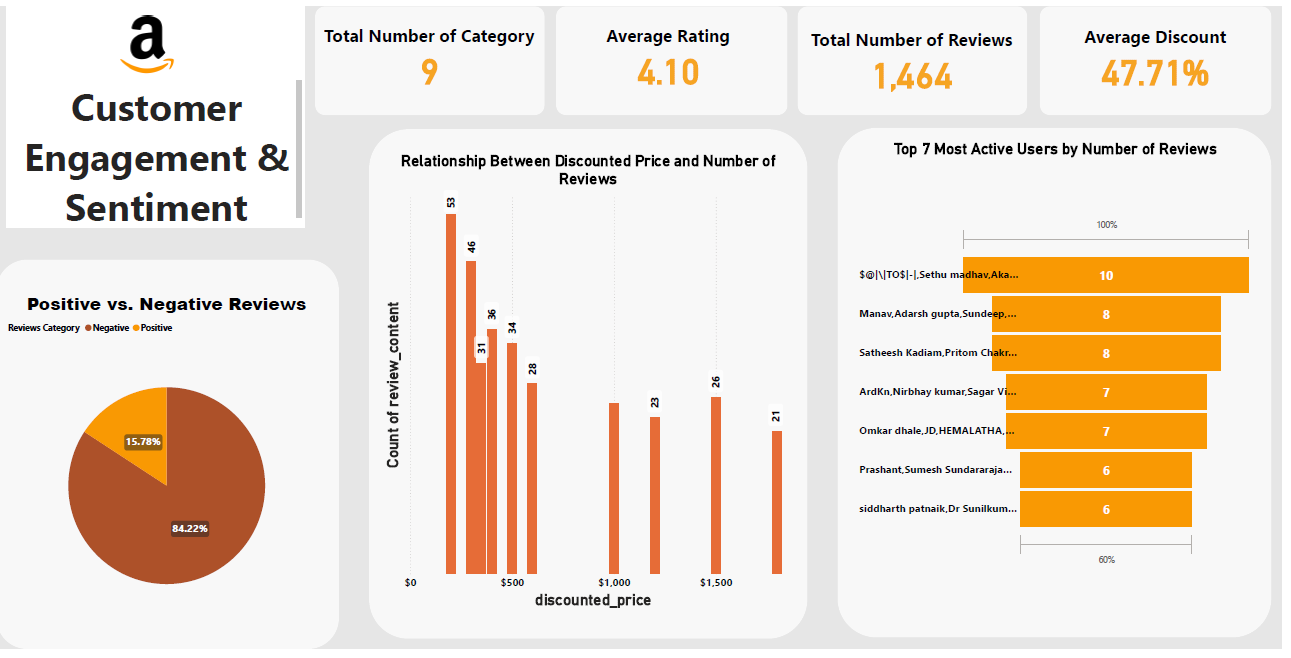

The dashboard page shown, as its layout file describes it:
{"tool":"powerbi","page":{"name":"Customer Engagement & Sentiment","canvas":[2000,1000],"ordinal":3},"visuals":[{"type":"shape","box":[495.6,0,357.8,168.9],"z":0},{"type":"shape","box":[871.1,0,360,168.9],"z":1000},{"type":"shape","box":[1246.7,0,357.8,168.9],"z":2000},{"type":"shape","box":[1624.4,0,360,168.9],"z":3000},{"type":"shape","box":[16,0,464.2,344.4],"z":4000},{"type":"shape","box":[0,394,533,606],"z":5000},{"type":"shape","box":[580,191.1,682.2,793.3],"z":6000},{"type":"shape","box":[1308.9,188.9,675.6,793.3],"z":7000},{"type":"cardVisual","fields":{"Data":["Amazon Sales.Total Number of Category"]},"box":[480,0,386.7,155.6],"z":8000},{"type":"cardVisual","fields":{"Data":["Amazon Sales.Average Rating"]},"box":[866.7,2.2,357.8,153.3],"z":9000},{"type":"cardVisual","fields":{"Data":["Amazon Sales.Total Number of Reviews"]},"box":[1246.7,2.2,355.6,166.7],"z":10000},{"type":"cardVisual","fields":{"Data":["Amazon Sales.Average Discount"]},"box":[1646.7,8.9,313.3,142.2],"z":11000},{"type":"textbox","box":[25.9,109.9,454.3,234.6],"z":12000},{"type":"image","box":[186.4,8.6,96.3,101.2],"z":13000},{"type":"pieChart","title":"Positive vs. Negative Reviews","fields":{"Category":["Amazon Sales.Rating Category"],"Y":["CountNonNull(Amazon Sales.review_content)"]},"box":[12.8,442.6,504.3,540.4],"z":14000},{"type":"lineStackedColumnComboChart","title":" Relationship Between Discounted Price and Number of Reviews","fields":{"Category":["Amazon Sales.discounted_price"],"Y":["CountNonNull(Amazon Sales.review_content)"]},"box":[597.4,226.9,648.7,714.1],"z":15000},{"type":"funnel","title":"Top 7 Most Active Users by Number of Reviews","fields":{"Category":["Amazon Sales.user_name"],"Y":["CountNonNull(Amazon Sales.review_content)"]},"box":[1338.5,207.7,620.5,756.4],"z":16000}]}

Visuals, with their boxes in screenshot pixels (x1, y1, x2, y2), scaled from the page's 2000x1000 canvas onto the 1291x658 screenshot:
shape: 320/0/551/111
shape: 562/0/795/111
shape: 805/0/1036/111
shape: 1049/0/1281/111
shape: 10/0/310/227
shape: 0/259/344/657
shape: 374/126/815/648
shape: 845/124/1281/646
cardVisual - Amazon Sales.Total Number of Category: 310/0/559/102
cardVisual - Amazon Sales.Average Rating: 559/1/790/102
cardVisual - Amazon Sales.Total Number of Reviews: 805/1/1034/111
cardVisual - Amazon Sales.Average Discount: 1063/6/1265/99
textbox: 17/72/310/227
image: 120/6/182/72
"Positive vs. Negative Reviews" pieChart: 8/291/334/647
" Relationship Between Discounted Price and Number of Reviews" lineStackedColumnComboChart: 386/149/804/619
"Top 7 Most Active Users by Number of Reviews" funnel: 864/137/1265/634
